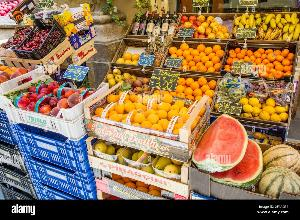apple: (102, 70, 152, 94), (122, 73, 131, 80)
banana: (234, 10, 300, 40), (292, 13, 298, 24)
lemon: (242, 94, 290, 124), (266, 98, 276, 107)
melon: (256, 136, 300, 200), (263, 145, 300, 173)
orange: (112, 89, 206, 143), (224, 42, 300, 82), (162, 42, 226, 70), (162, 78, 220, 100), (112, 47, 140, 64), (216, 49, 225, 59), (158, 119, 169, 127), (198, 77, 207, 86), (123, 52, 132, 61), (282, 49, 290, 57)
peach: (16, 82, 96, 116), (0, 66, 39, 94), (67, 93, 83, 108), (0, 75, 8, 83)
pear: (84, 144, 190, 174), (176, 14, 232, 38), (155, 157, 172, 170), (221, 26, 228, 33)
pineapple: (139, 34, 169, 70), (152, 47, 165, 67)
watermelon: (190, 119, 266, 185), (193, 114, 248, 173)
